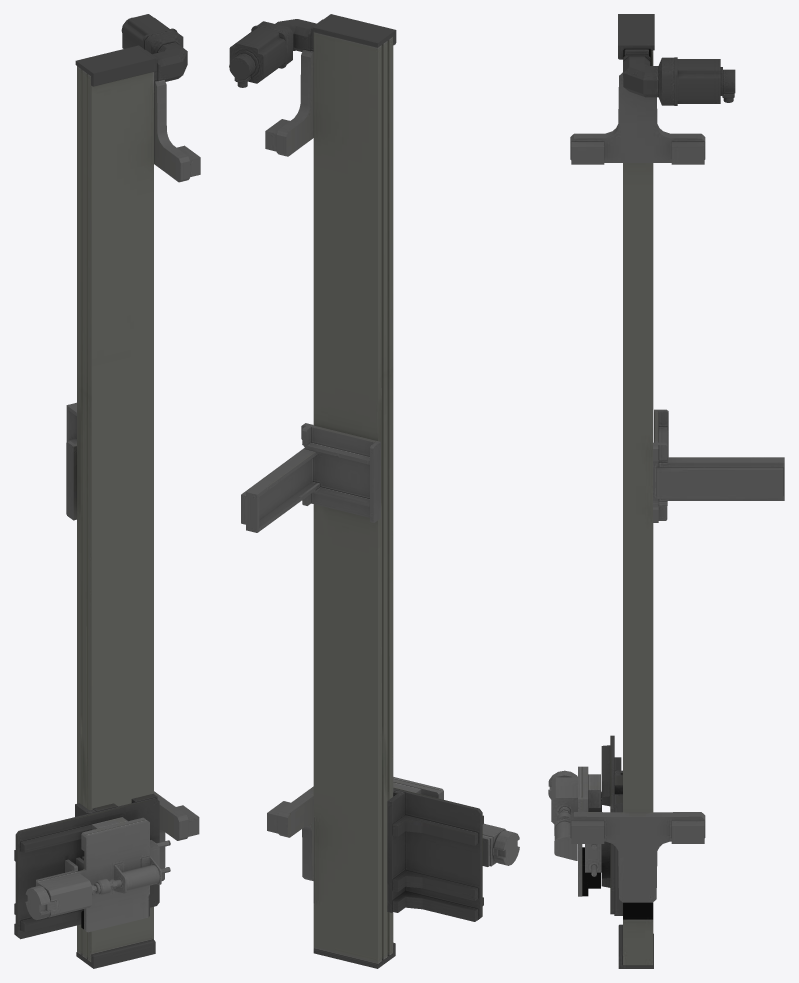
File: Lali_robot_02.glb
The picture shows the model from 3 angles, left to right: view 1: azimuth 30°, elevation 25°; view 2: azimuth 150°, elevation 25°; view 3: azimuth 270°, elevation 25°; orthographic projection. The views are drawn at different scales.
Parts seen in each view (by area): view 1: r1, r2; view 2: r1, r2; view 3: r1, r2.
Boxes of the visible parts, <box> form: r1: <box>66,14,200,968</box>; r2: <box>14,793,170,939</box>; r1: <box>229,14,396,968</box>; r2: <box>387,777,519,921</box>; r1: <box>570,14,784,968</box>; r2: <box>548,735,622,915</box>.
Size of the model in its own units: 4.61 by 20.03 by 4.64.
Materials: 1 (1 with a texture image).
